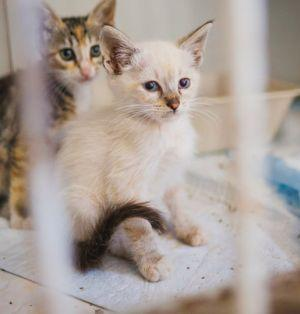siamese: (92, 14, 218, 132)
